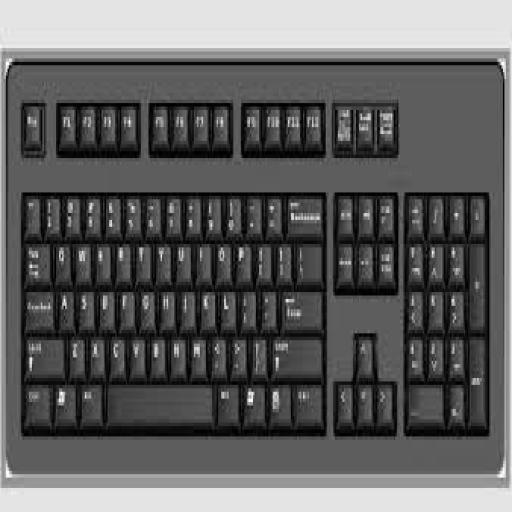KEYBOARD-2: (0, 52, 510, 474)
